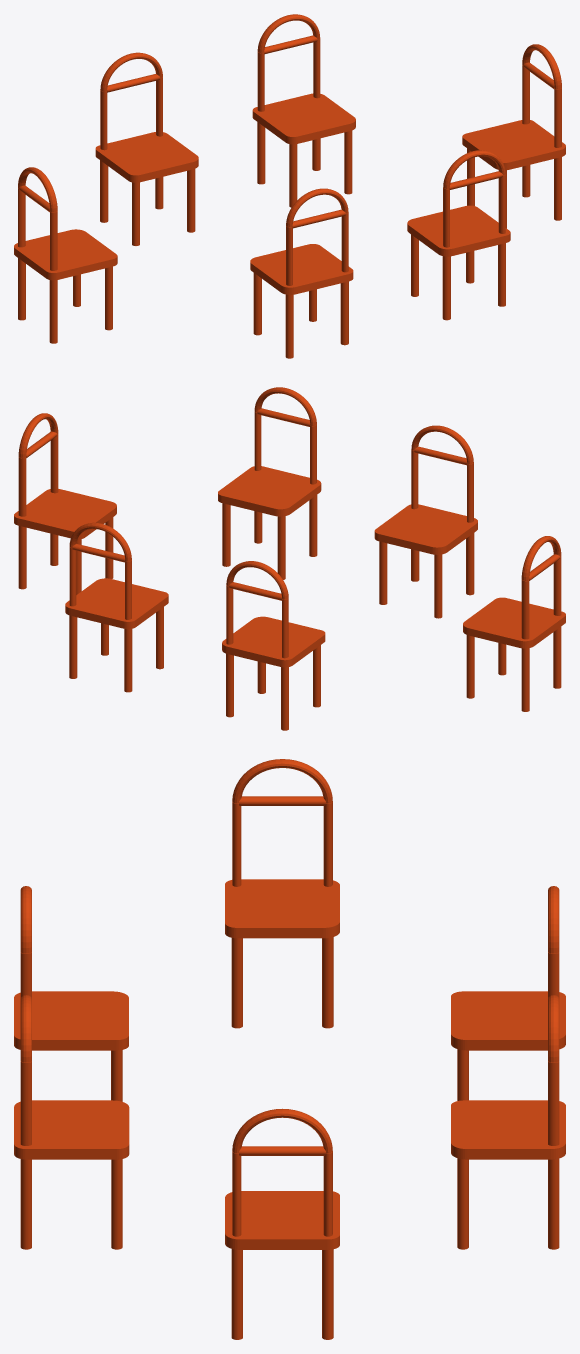
File: silla.obj
The picture shows the model from 3 angles, top to bottom: view 1: azimuth 30°, elevation 25°; view 2: azimuth 150°, elevation 25°; view 3: azimuth 270°, elevation 25°; orthographic projection. The views are drawn at different scales.
Visible parts, largest first — view 1: Cylinder.003, Cylinder.002, Cylinder.004, Cylinder.005, Cylinder.001, Cylinder.007; view 2: Cylinder.004, Cylinder.005, Cylinder.001, Cylinder.003, Cylinder.002, Cylinder.007; view 3: Cylinder.001, Cylinder.007, Cylinder.005, Cylinder.003, Cylinder.002, Cylinder.004.
Part boxes in pixels (x1,y1,x2,y2): Cylinder.003: (252, 14, 355, 207); Cylinder.002: (95, 52, 198, 245); Cylinder.004: (250, 188, 353, 358); Cylinder.005: (407, 150, 510, 320); Cylinder.001: (14, 167, 117, 343); Cylinder.007: (462, 44, 565, 228); Cylinder.004: (374, 425, 477, 618); Cylinder.005: (218, 387, 321, 579); Cylinder.001: (463, 536, 565, 711); Cylinder.003: (65, 522, 168, 692); Cylinder.002: (222, 561, 325, 730); Cylinder.007: (14, 413, 116, 594); Cylinder.001: (225, 759, 339, 1028); Cylinder.007: (225, 1108, 339, 1339); Cylinder.005: (14, 995, 129, 1249); Cylinder.003: (451, 995, 565, 1249); Cylinder.002: (451, 886, 565, 1100); Cylinder.004: (14, 886, 128, 1101).
Size of the model in its own units: 36.39 by 10.74 by 23.57.
Materials: 1 (1 with a texture image).
